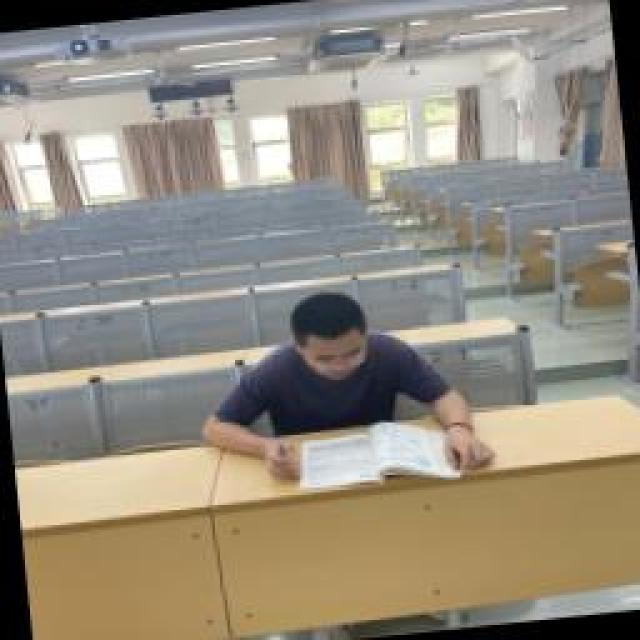study: (188, 275, 498, 503)
